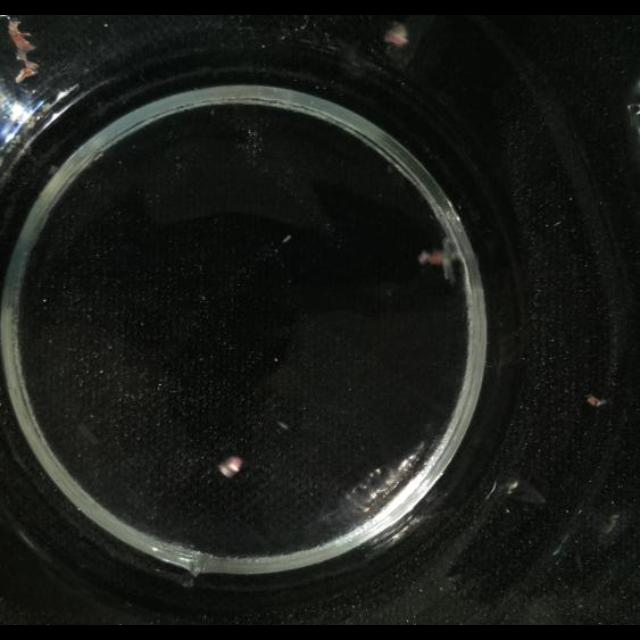Fragment: (417, 226, 473, 284), (6, 17, 40, 81), (2, 92, 36, 144), (382, 20, 410, 46)
microbeads: (217, 456, 243, 478), (586, 394, 606, 408)
